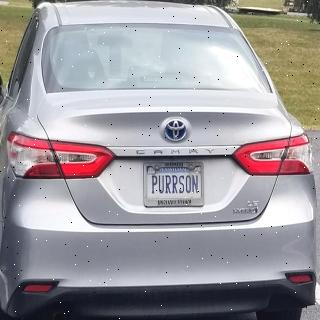license: (144, 163, 206, 208)
